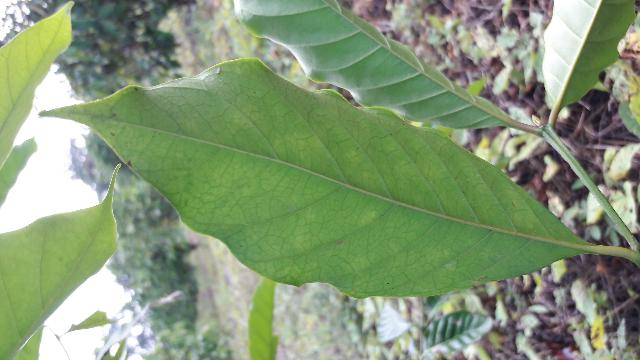healthy: (51, 67, 588, 300)
